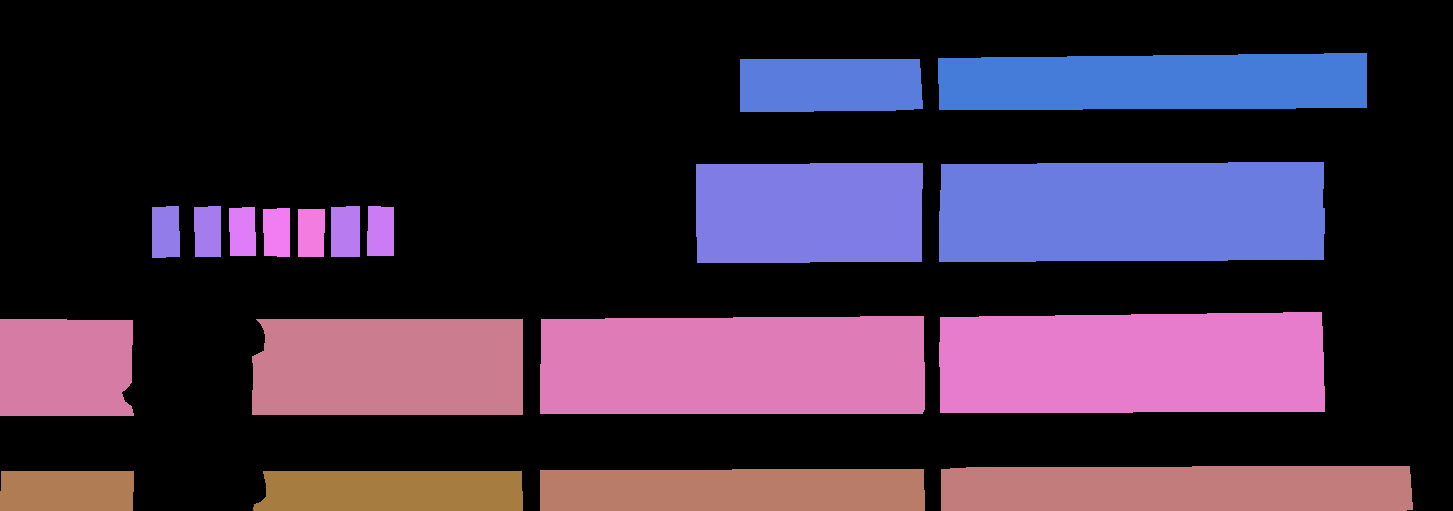parkingspot: (938, 53, 1366, 109), (941, 466, 1412, 511), (939, 312, 1323, 366), (939, 208, 1324, 261), (940, 162, 1323, 215), (541, 316, 923, 368), (940, 361, 1324, 412), (540, 362, 924, 413), (540, 469, 924, 511), (252, 364, 522, 414), (252, 319, 522, 368), (696, 163, 922, 215), (696, 210, 921, 262), (253, 471, 522, 511), (740, 59, 922, 111), (0, 319, 132, 370), (0, 365, 133, 415), (0, 471, 133, 511), (331, 206, 359, 256), (152, 206, 179, 257), (194, 206, 220, 256), (367, 206, 393, 255), (229, 207, 255, 255), (263, 208, 289, 256), (298, 209, 324, 256)
